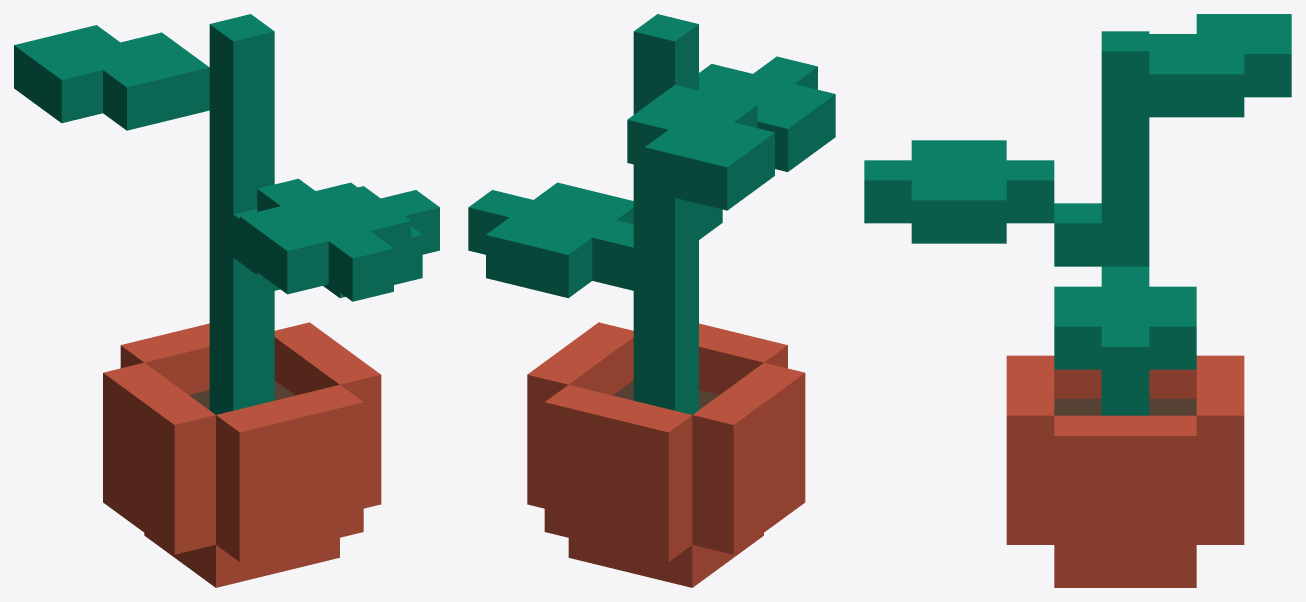
File: obj_plant.obj
3 views of the same model, side by side, from view 1: azimuth 30°, elevation 25°; view 2: azimuth 150°, elevation 25°; view 3: azimuth 270°, elevation 25° (orthographic).
Visible parts, largest first — view 1: obj_plant; view 2: obj_plant; view 3: obj_plant.
Part boxes in pixels (box(x1,y1,x2,y2)): obj_plant: box(14, 14, 439, 587); obj_plant: box(468, 14, 835, 587); obj_plant: box(864, 14, 1291, 587).
Size of the model in its own units: 8 by 12 by 9.
1 material, 1 textured.
